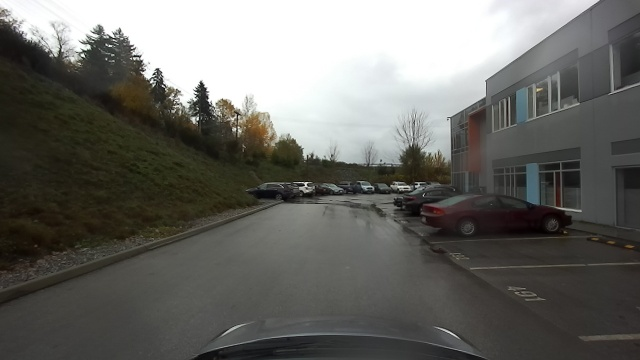car: (421, 194, 570, 240), (250, 180, 301, 203), (397, 187, 421, 211), (316, 183, 345, 196), (391, 179, 410, 193), (356, 181, 373, 195), (342, 181, 358, 194), (303, 181, 314, 196), (377, 183, 390, 194)
